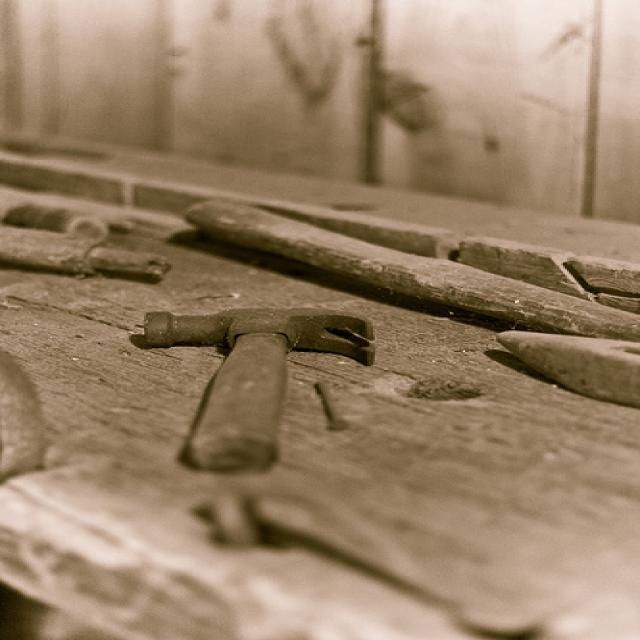hammer: (142, 302, 384, 477)
